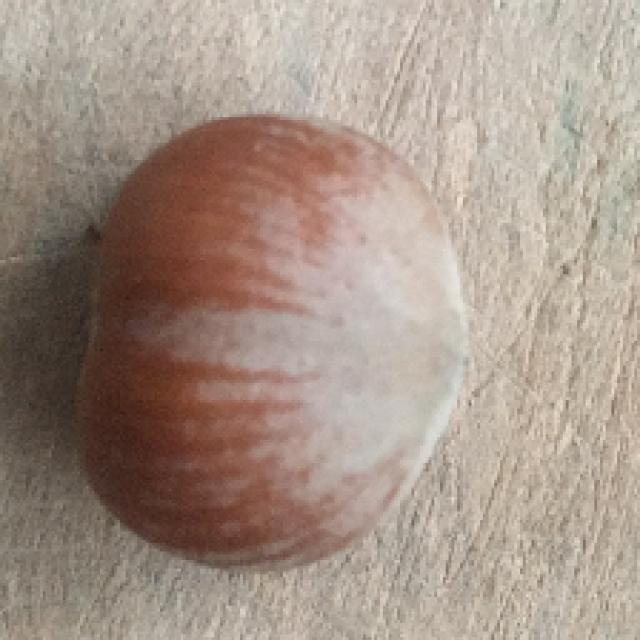qualityHazelnut: (85, 113, 470, 570)
